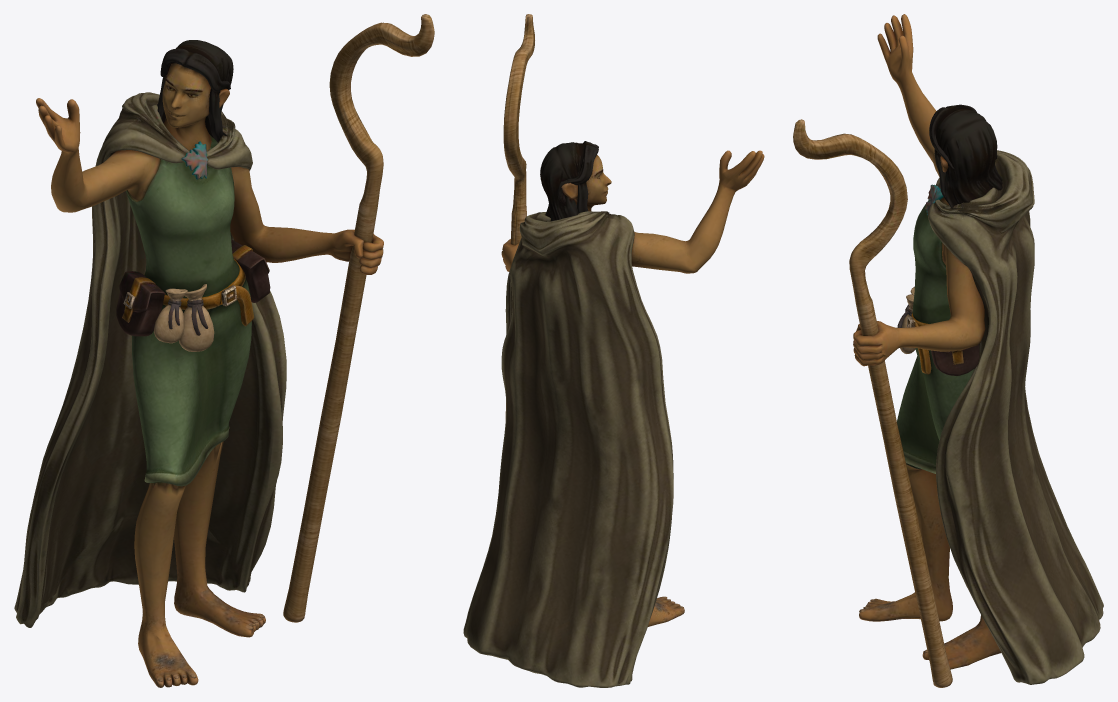
Rendered from MZ4250 - Druid Female_A.glb.
3 views of the same model, side by side, from view 1: azimuth 30°, elevation 25°; view 2: azimuth 150°, elevation 25°; view 3: azimuth 270°, elevation 25° (orthographic). The views are drawn at different scales.
Parts seen in each view (by area): view 1: Cube.001; view 2: Cube.001; view 3: Cube.001.
Boxes of the visible parts, x1,y1,x2,y2 form: Cube.001: (14,14,434,687); Cube.001: (463,14,764,687); Cube.001: (793,14,1103,687).
Size of the model in its own units: 0.5405 by 0.9843 by 0.4701.
Materials: 1 (1 with a texture image).
